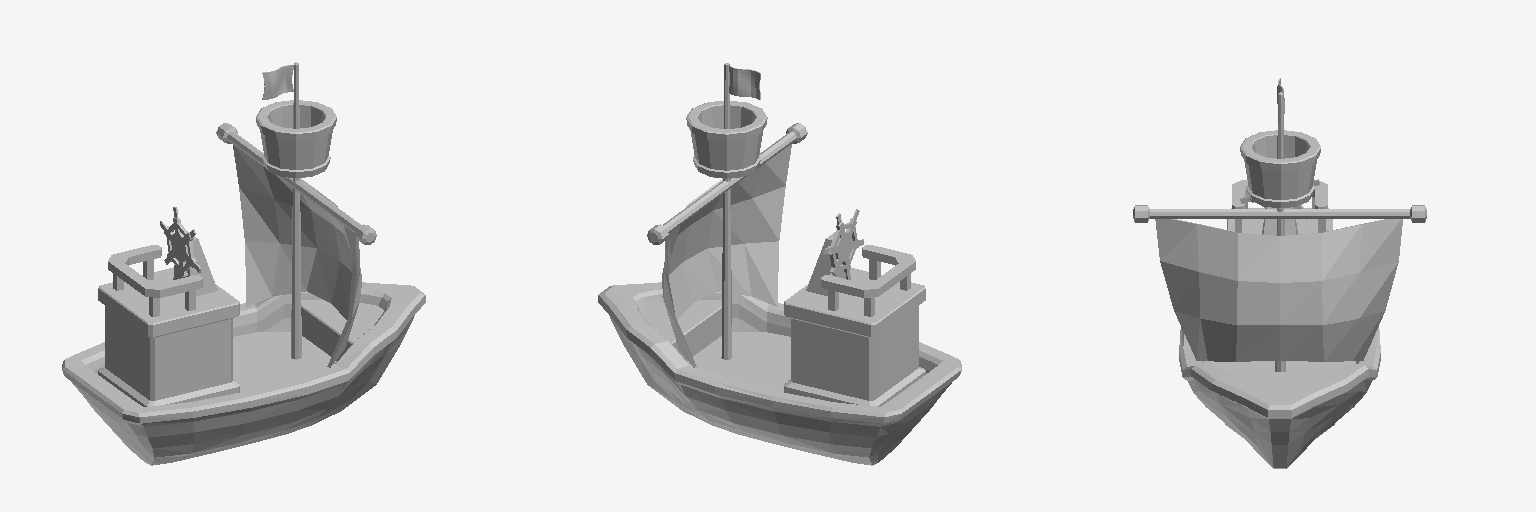
Rendered from Boat_02.obj.
3 views of the same model, side by side, from view 1: azimuth 30°, elevation 25°; view 2: azimuth 150°, elevation 25°; view 3: azimuth 270°, elevation 25° (orthographic).
Parts seen in each view (by area): view 1: pasted__pCube2 polySurface10, pasted__pCube2 polySurface7, pasted__pCube2 polySurface14, pasted__pCube2 polySurface8, pasted__pCube2 polySurface9, pasted__pCube2 polySurface1, pasted__pCube2 polySurface5, pasted__pCube2 polySurface6, pasted__pCube2 polySurface2, pasted__pCube2 polySurface12, pasted__pCube2 polySurface13, polySurface11 pasted__pCube2; view 2: pasted__pCube2 polySurface10, pasted__pCube2 polySurface7, pasted__pCube2 polySurface14, pasted__pCube2 polySurface8, pasted__pCube2 polySurface9, pasted__pCube2 polySurface1, pasted__pCube2 polySurface5, pasted__pCube2 polySurface2, pasted__pCube2 polySurface6, pasted__pCube2 polySurface12, pasted__pCube2 polySurface13, polySurface11 pasted__pCube2; view 3: pasted__pCube2 polySurface14, pasted__pCube2 polySurface10, pasted__pCube2 polySurface8, pasted__pCube2 polySurface2, pasted__pCube2 polySurface1, pasted__pCube2 polySurface9, pasted__pCube2 polySurface7, pasted__pCube2 polySurface5, pasted__pCube2 polySurface6.
Boxes of the visible parts, box(x1,y1,x2,y2) form: pasted__pCube2 polySurface10: box(62, 282, 425, 465); pasted__pCube2 polySurface7: box(98, 267, 239, 406); pasted__pCube2 polySurface14: box(233, 145, 361, 367); pasted__pCube2 polySurface8: box(256, 100, 336, 178); pasted__pCube2 polySurface9: box(233, 332, 336, 391); pasted__pCube2 polySurface1: box(301, 300, 383, 360); pasted__pCube2 polySurface5: box(108, 245, 202, 297); pasted__pCube2 polySurface6: box(291, 62, 301, 359); pasted__pCube2 polySurface2: box(216, 123, 376, 244); pasted__pCube2 polySurface12: box(160, 207, 200, 277); pasted__pCube2 polySurface13: box(262, 65, 293, 99); polySurface11 pasted__pCube2: box(173, 236, 217, 295); pasted__pCube2 polySurface10: box(598, 282, 961, 465); pasted__pCube2 polySurface7: box(784, 268, 925, 406); pasted__pCube2 polySurface14: box(662, 144, 791, 367); pasted__pCube2 polySurface8: box(686, 101, 767, 178); pasted__pCube2 polySurface9: box(687, 332, 790, 391); pasted__pCube2 polySurface1: box(640, 300, 721, 360); pasted__pCube2 polySurface5: box(821, 245, 915, 297); pasted__pCube2 polySurface2: box(647, 123, 807, 244); pasted__pCube2 polySurface6: box(721, 63, 731, 359); pasted__pCube2 polySurface12: box(823, 209, 863, 279); pasted__pCube2 polySurface13: box(729, 66, 760, 99); polySurface11 pasted__pCube2: box(806, 232, 850, 295); pasted__pCube2 polySurface14: box(1155, 219, 1402, 361); pasted__pCube2 polySurface10: box(1179, 327, 1380, 468); pasted__pCube2 polySurface8: box(1240, 130, 1320, 208); pasted__pCube2 polySurface2: box(1133, 205, 1426, 222); pasted__pCube2 polySurface1: box(1225, 372, 1334, 392); pasted__pCube2 polySurface9: box(1204, 361, 1355, 371); pasted__pCube2 polySurface7: box(1227, 208, 1332, 234); pasted__pCube2 polySurface5: box(1232, 180, 1327, 208); pasted__pCube2 polySurface6: box(1275, 92, 1285, 371).
Size of the model in its own units: 3.37 by 3.59 by 2.61.